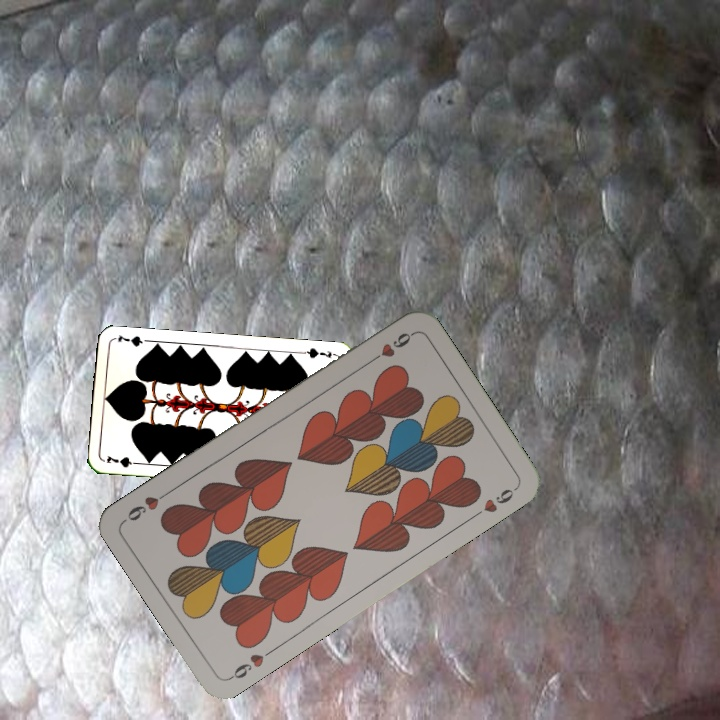G7: (102, 451, 143, 470), (299, 344, 340, 361)
H9: (364, 328, 416, 367), (225, 649, 267, 683)
